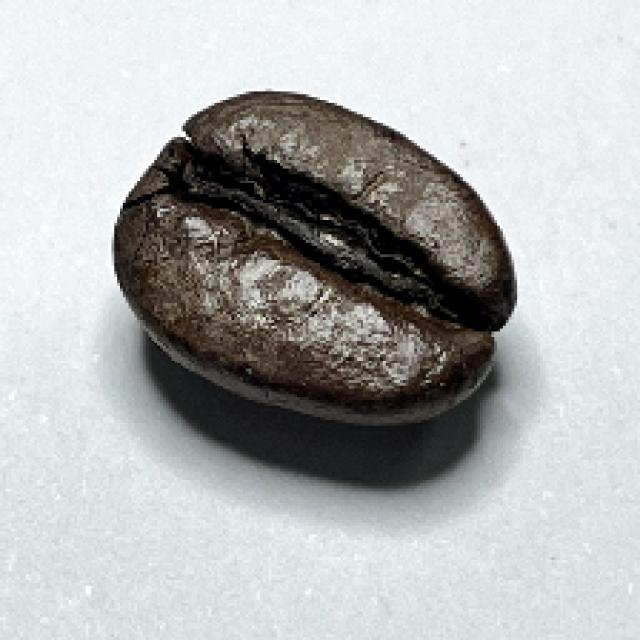bean: (97, 78, 527, 459)
